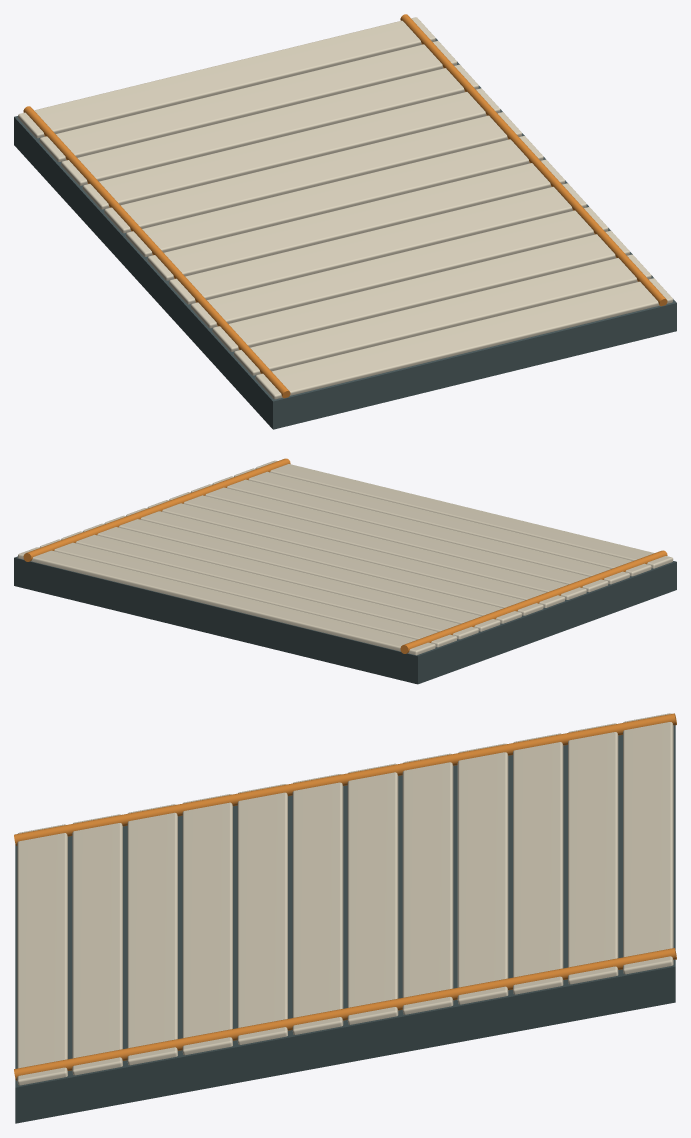
The model's file is terrace-ramp-2m.glb.
3 views of the same model, one above another, from view 1: azimuth 30°, elevation 25°; view 2: azimuth 150°, elevation 25°; view 3: azimuth 270°, elevation 25° (orthographic). The views are drawn at different scales.
Parts seen in each view (by area): view 1: terrace-ramp-2m / 01 • warm porcelain paint, terrace-ramp-2m / 06 • dark anodized frame, terrace-ramp-2m / 03 • ochre enamel; view 2: terrace-ramp-2m / 01 • warm porcelain paint, terrace-ramp-2m / 06 • dark anodized frame, terrace-ramp-2m / 03 • ochre enamel; view 3: terrace-ramp-2m / 01 • warm porcelain paint, terrace-ramp-2m / 06 • dark anodized frame, terrace-ramp-2m / 03 • ochre enamel.
Part boxes in pixels (box(x1,y1,x2,y2)): terrace-ramp-2m / 01 • warm porcelain paint: box(18, 17, 673, 399); terrace-ramp-2m / 06 • dark anodized frame: box(14, 38, 676, 429); terrace-ramp-2m / 03 • ochre enamel: box(23, 14, 667, 398); terrace-ramp-2m / 01 • warm porcelain paint: box(18, 460, 673, 655); terrace-ramp-2m / 06 • dark anodized frame: box(14, 556, 676, 684); terrace-ramp-2m / 03 • ochre enamel: box(23, 458, 667, 653); terrace-ramp-2m / 01 • warm porcelain paint: box(17, 713, 673, 1085); terrace-ramp-2m / 06 • dark anodized frame: box(15, 725, 675, 1123); terrace-ramp-2m / 03 • ochre enamel: box(14, 713, 676, 1080).
Bounding box in the file's own units: 1.8 × 0.5576 × 2.01.
